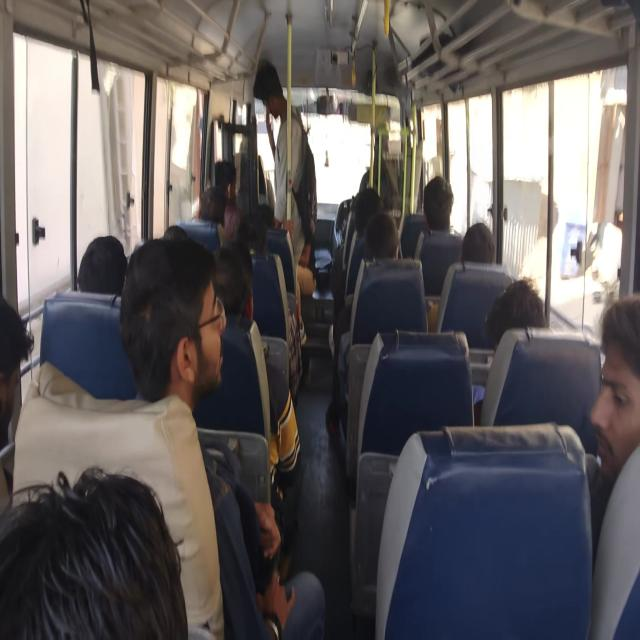person: (127, 242, 221, 379), (0, 306, 53, 456), (210, 238, 252, 311), (71, 228, 115, 294), (252, 60, 286, 116), (160, 207, 199, 255), (244, 197, 274, 256), (215, 150, 238, 195), (200, 182, 222, 225)
